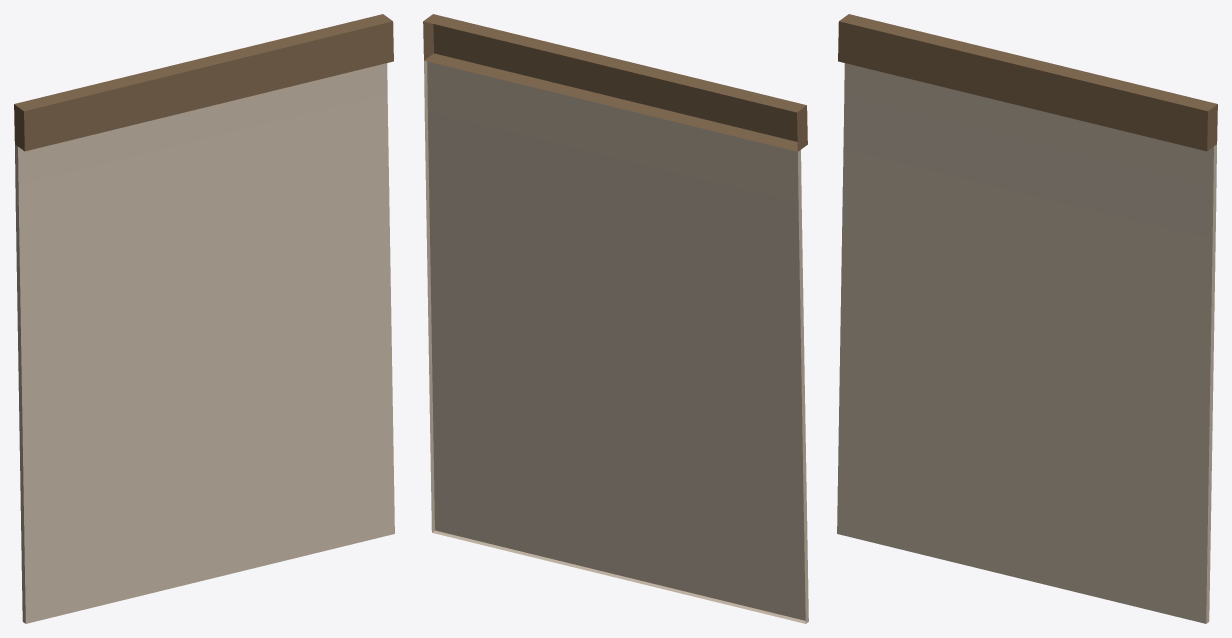
Rendered from time.fbx.
3 views of the same model, side by side, from view 1: azimuth 30°, elevation 25°; view 2: azimuth 150°, elevation 25°; view 3: azimuth 330°, elevation 25° (orthographic).
Visible parts, largest first — view 1: pPlane1; view 2: pPlane1; view 3: pPlane1.
Boxes of the visible parts, x1=… form: pPlane1: x1=14, y1=14, x2=394, y2=623; pPlane1: x1=423, y1=14, x2=808, y2=623; pPlane1: x1=837, y1=14, x2=1217, y2=623.
Size of the model in its own units: 2.09 by 2.77 by 0.1156.
